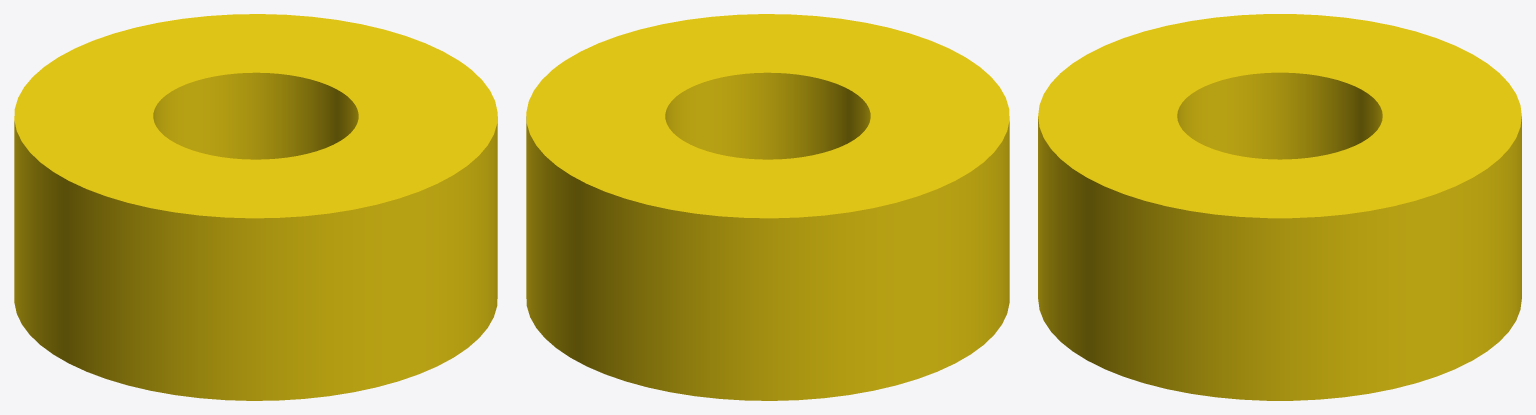
3 renders of one model, left to right at view 1: azimuth 30°, elevation 25°; view 2: azimuth 150°, elevation 25°; view 3: azimuth 270°, elevation 25°, orthographic.
Visible parts, largest first — view 1: mesh79841, mesh79842, mesh79839; view 2: mesh79841, mesh79842, mesh79839; view 3: mesh79841, mesh79842, mesh79839.
Boxes of the visible parts, <box> form: mesh79841: <box>14,116,497,400</box>; mesh79842: <box>14,14,497,218</box>; mesh79839: <box>153,72,358,159</box>; mesh79841: <box>526,116,1009,400</box>; mesh79842: <box>526,14,1009,218</box>; mesh79839: <box>665,72,870,159</box>; mesh79841: <box>1038,117,1521,400</box>; mesh79842: <box>1038,14,1521,218</box>; mesh79839: <box>1177,72,1382,159</box>.
Bounding box in the file's own units: 0.0152 × 0.00635 × 0.0152.
